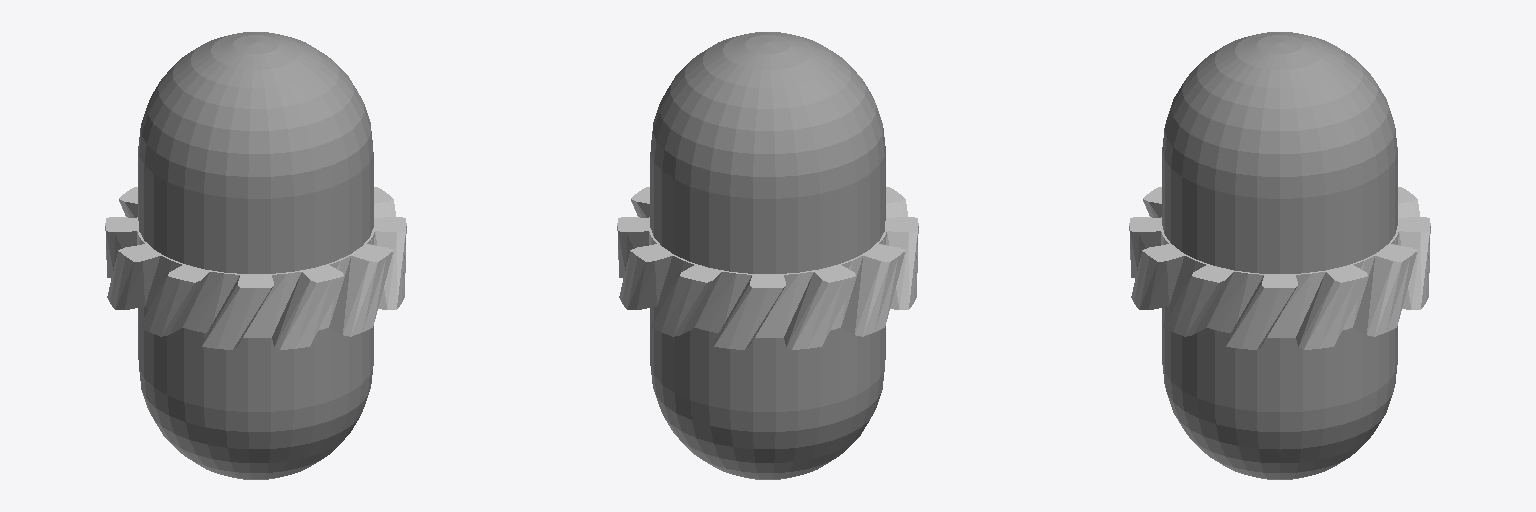
File: gear.obj
The picture shows the model from 3 angles: view 1: azimuth 30°, elevation 25°; view 2: azimuth 150°, elevation 25°; view 3: azimuth 270°, elevation 25°; orthographic projection.
Parts seen in each view (by area): view 1: Cylinder, Gear.002; view 2: Cylinder, Gear.002; view 3: Cylinder, Gear.002.
Boxes of the visible parts, x1=… form: Cylinder: x1=138, y1=32, x2=373, y2=479; Gear.002: x1=105, y1=187, x2=406, y2=349; Cylinder: x1=650, y1=32, x2=885, y2=479; Gear.002: x1=617, y1=187, x2=918, y2=349; Cylinder: x1=1162, y1=32, x2=1397, y2=479; Gear.002: x1=1129, y1=187, x2=1430, y2=349.
Size of the model in its own units: 2.56 by 4 by 2.56.